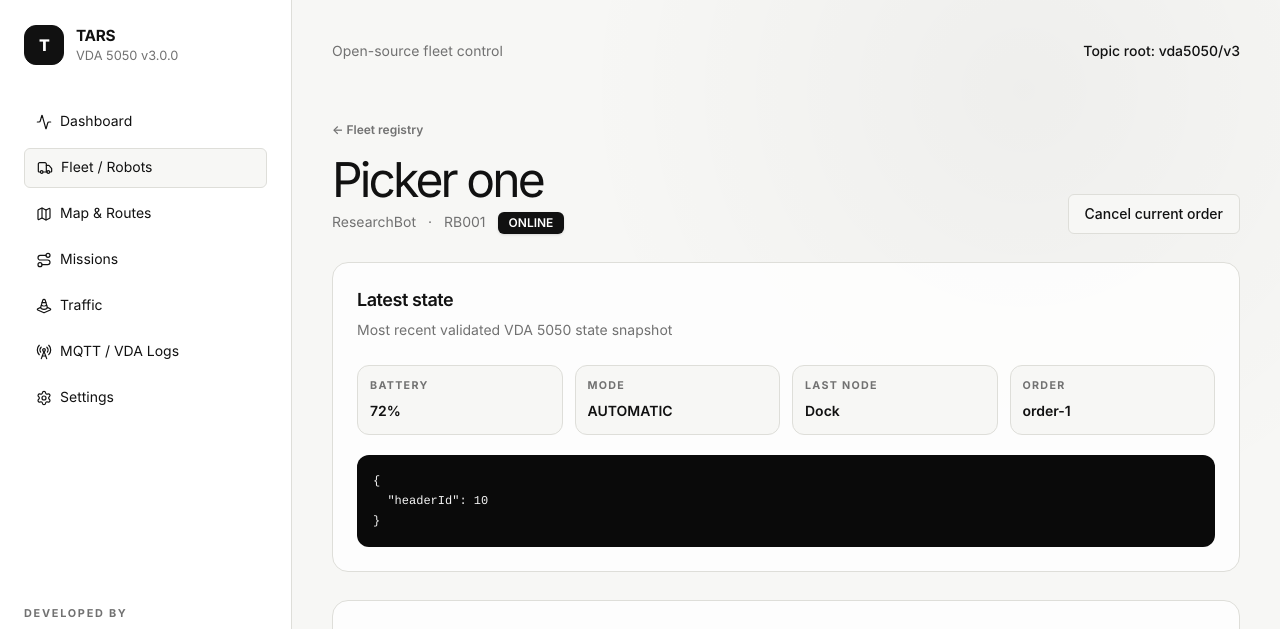
Test case: fleet pages › shows state and factsheet and publishes cancelOrder after confirmation
expect the heading "Picker one" is shown: met, box [332,156,564,204]
expect the text "72%" is shown: met, box [370,403,401,420]
Click the button "Cancel current order": (1154, 214) [1068,194,1240,234]
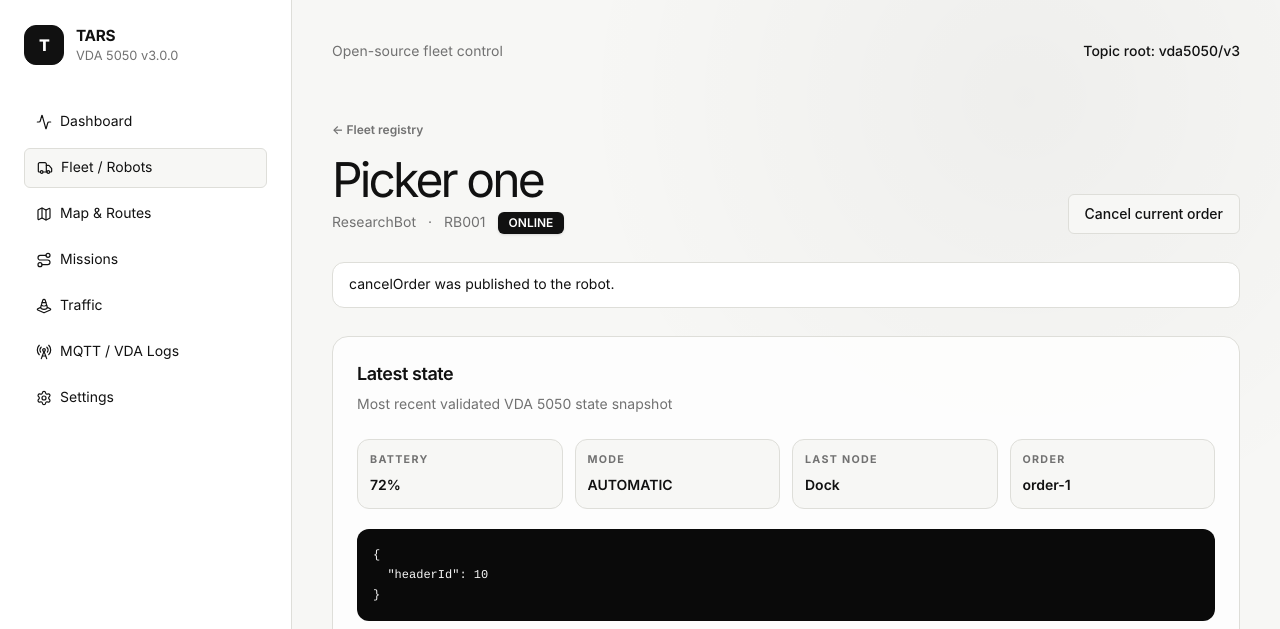
expect the message shows "cancelOrder was published": met, box [349,276,614,293]
